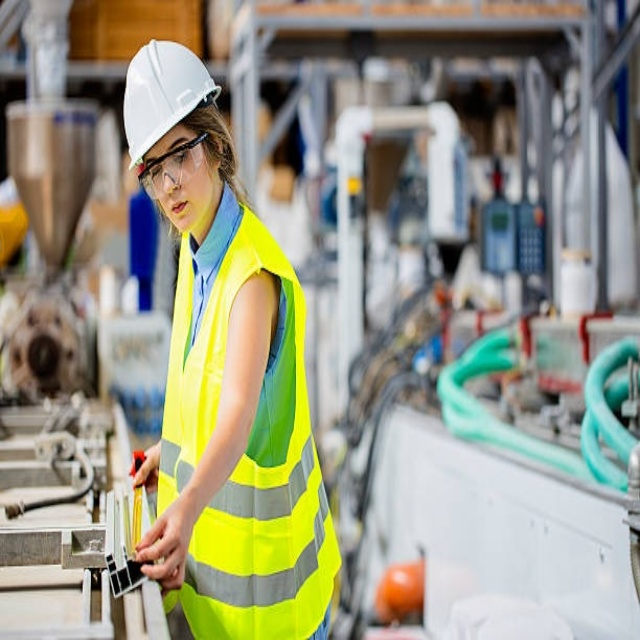Gafas: (139, 135, 209, 200)
Sin_guantes: (131, 502, 192, 591), (130, 441, 161, 490)
Sin_mascara: (163, 195, 200, 231)
